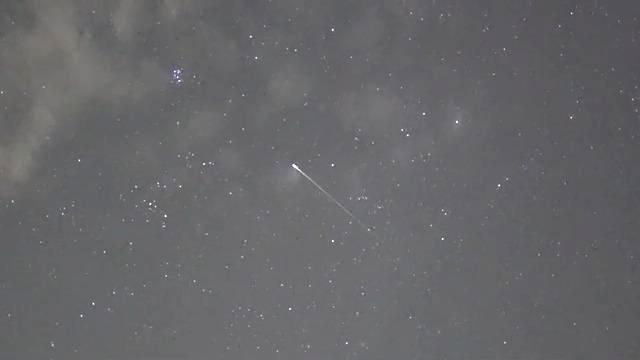meteorite: (273, 155, 375, 235)
